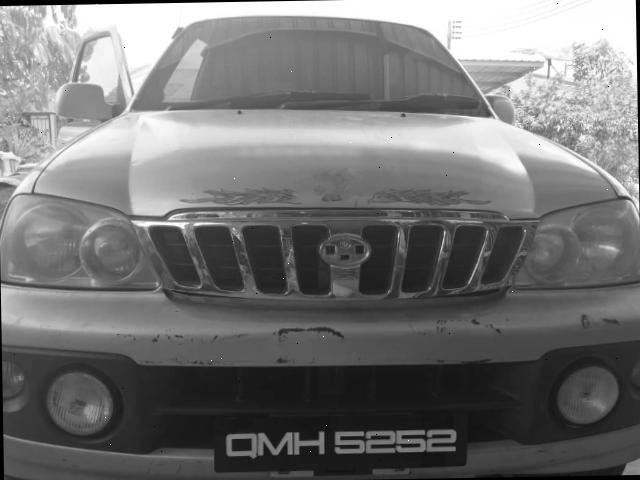License_Plate: (216, 409, 469, 473)
car: (1, 2, 640, 480)
